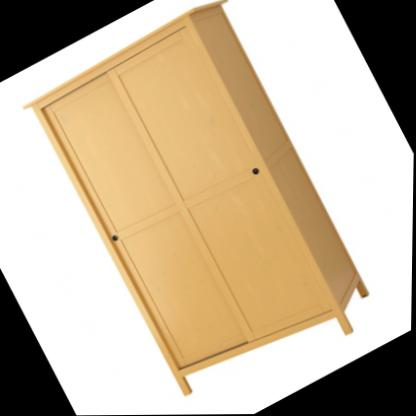Cabinet: (12, 0, 398, 416)
